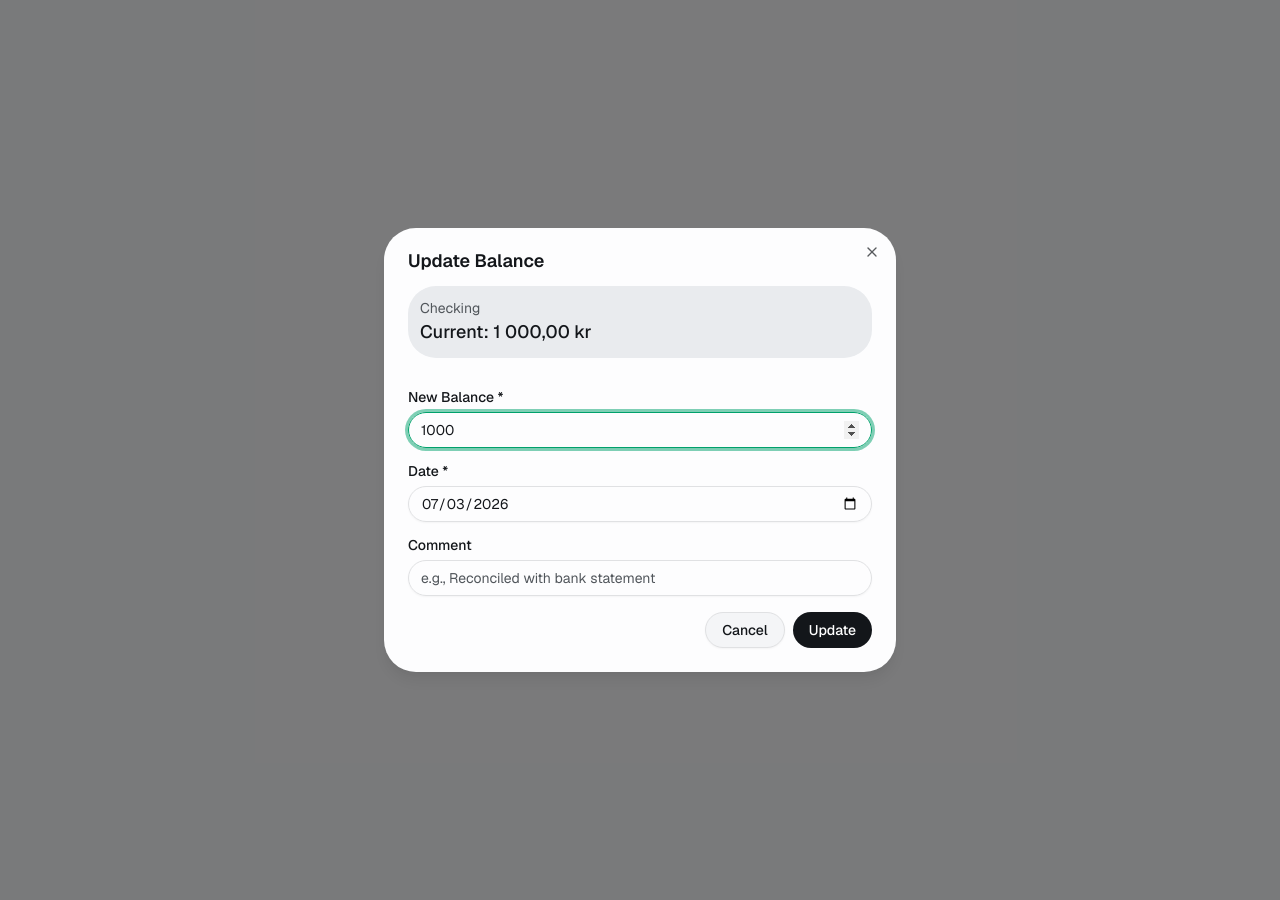
UpdateBalanceModal — savings-goal reallocation (item 070d) › offers per-goal distribution inputs on an increase over a multi-goal account
Replace the text in the number field labelled "New Balance *" with "1300" at (640, 430), box [408,412,872,448]
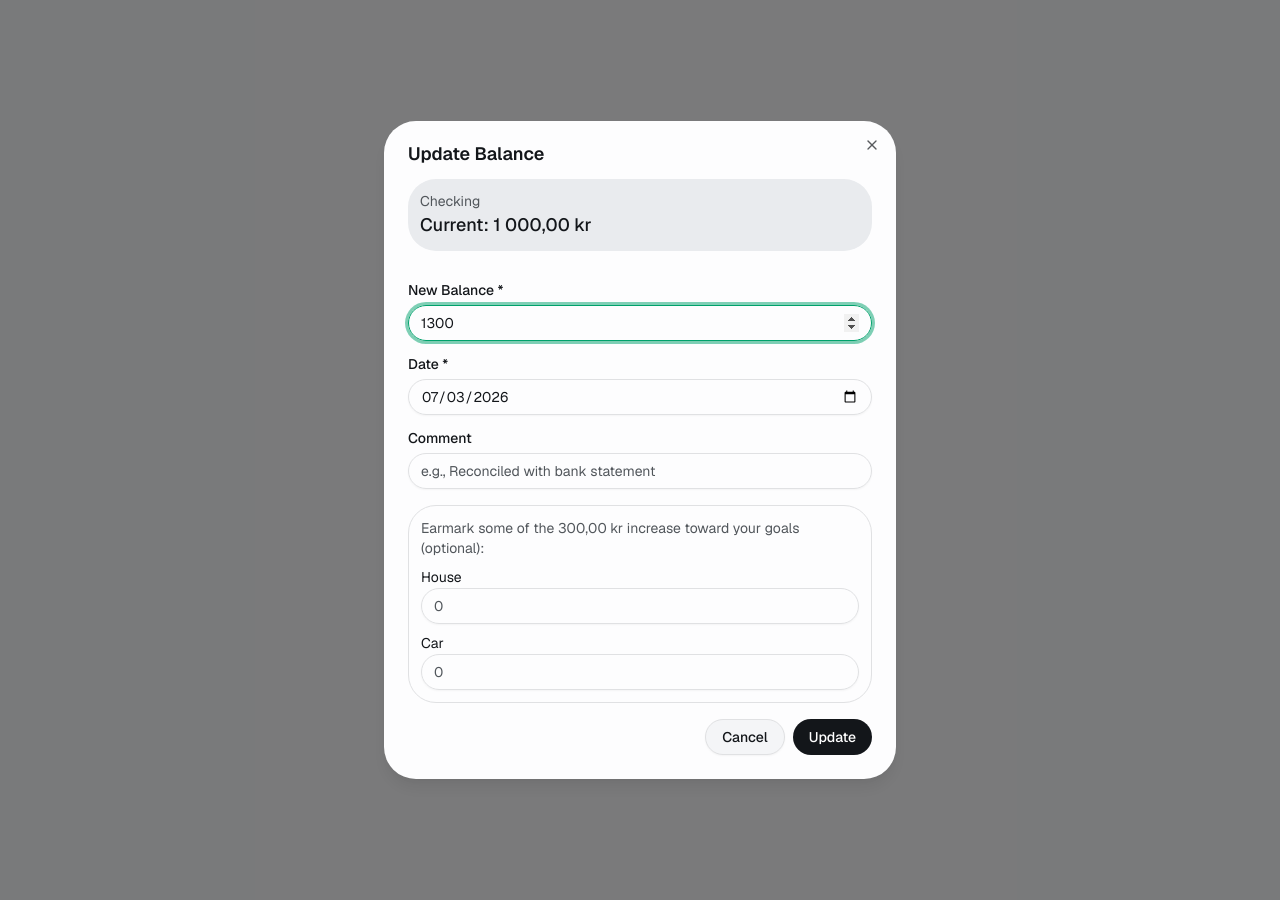
Check: the number field labelled "House" is shown, box [421,588,859,624]
Check: the number field labelled "Car" is shown, box [421,654,859,690]
